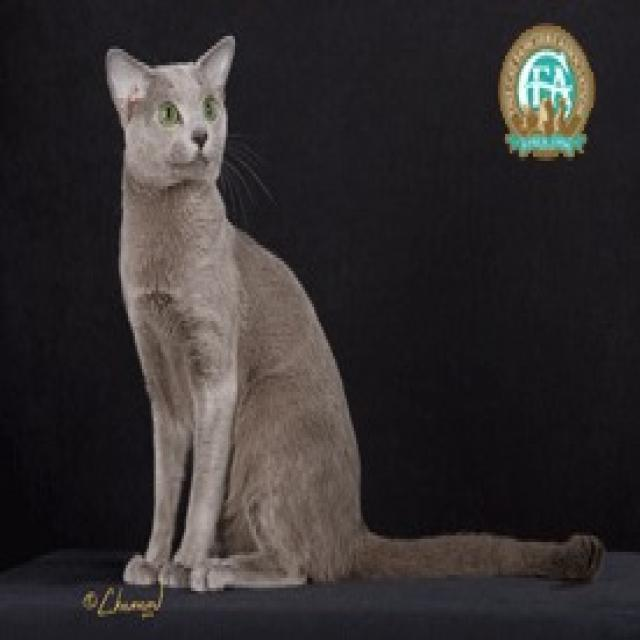Russian_Blue: (106, 35, 237, 192)
